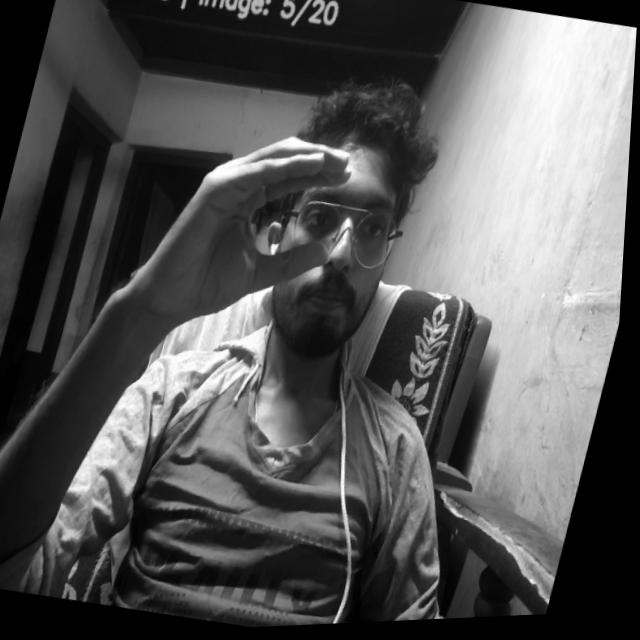No: (128, 111, 365, 356)
